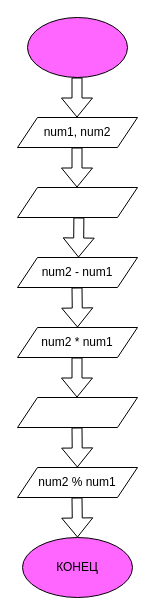
Image size: 155x615. Some labels were removed from this diagram. The centre of each missing label's shape, as x and y in pixels:
"num1 + num2" belongs at (x=77, y=202).
"num2 / num1" belongs at (x=77, y=412).
"НАЧАЛО" belongs at (x=77, y=47).
